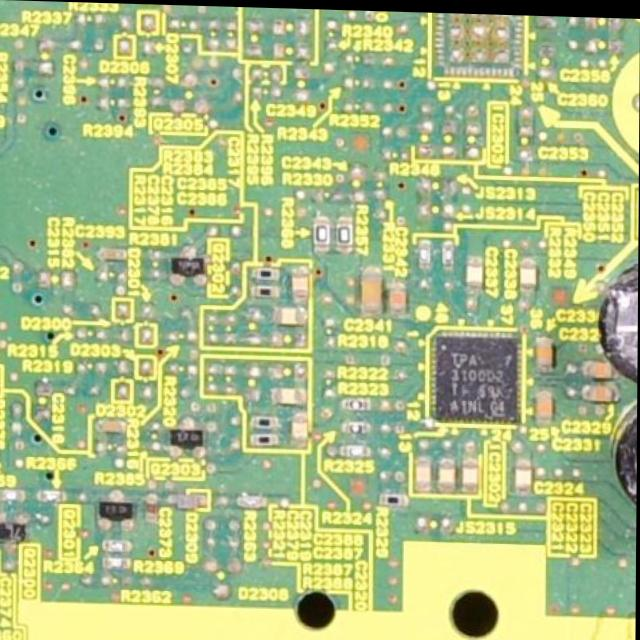IC: (434, 321, 526, 418)
capacitor: (595, 257, 639, 377), (619, 394, 638, 519), (360, 266, 385, 313), (511, 454, 536, 495), (583, 376, 625, 400), (412, 452, 434, 495), (461, 453, 483, 495), (287, 410, 309, 448), (580, 353, 615, 376), (534, 388, 554, 428), (93, 412, 129, 434), (273, 383, 307, 406), (521, 254, 540, 293), (440, 453, 458, 494), (276, 303, 309, 325), (467, 253, 487, 289), (291, 263, 310, 300), (388, 281, 409, 314), (535, 332, 552, 372), (97, 246, 130, 260), (147, 490, 159, 521)
resistor: (312, 217, 331, 250), (234, 492, 270, 509), (338, 213, 354, 251), (100, 553, 134, 570), (418, 237, 434, 273), (37, 487, 68, 505), (337, 441, 371, 457), (381, 490, 411, 508), (441, 238, 455, 274), (341, 417, 372, 433), (255, 283, 285, 299), (342, 394, 372, 410), (250, 413, 280, 429), (249, 267, 280, 282), (248, 430, 279, 445), (103, 539, 137, 552), (0, 487, 27, 503)
transistor: (169, 411, 213, 464), (92, 485, 140, 533), (166, 238, 205, 288), (0, 510, 27, 557)
